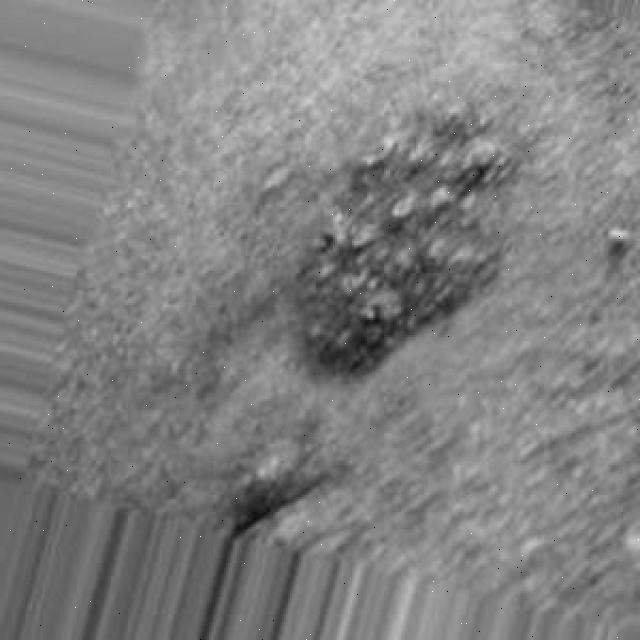Shingles: (308, 105, 514, 371)
